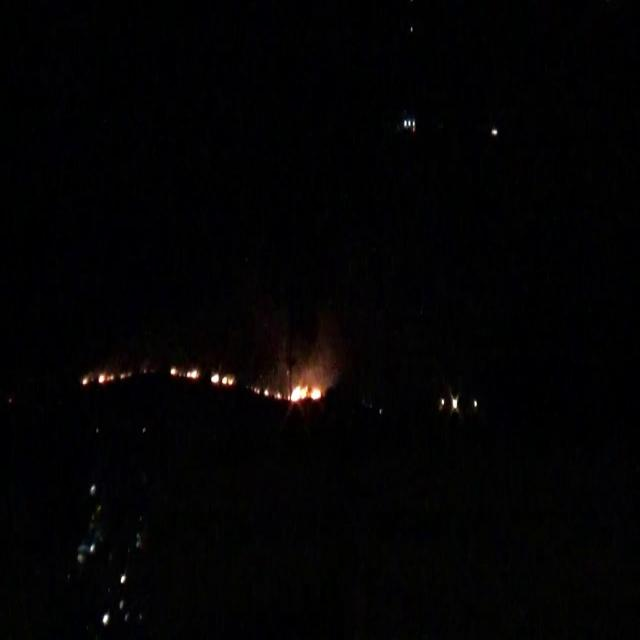Fire: (256, 380, 322, 404), (171, 362, 200, 380), (208, 369, 234, 389), (81, 369, 113, 385)
